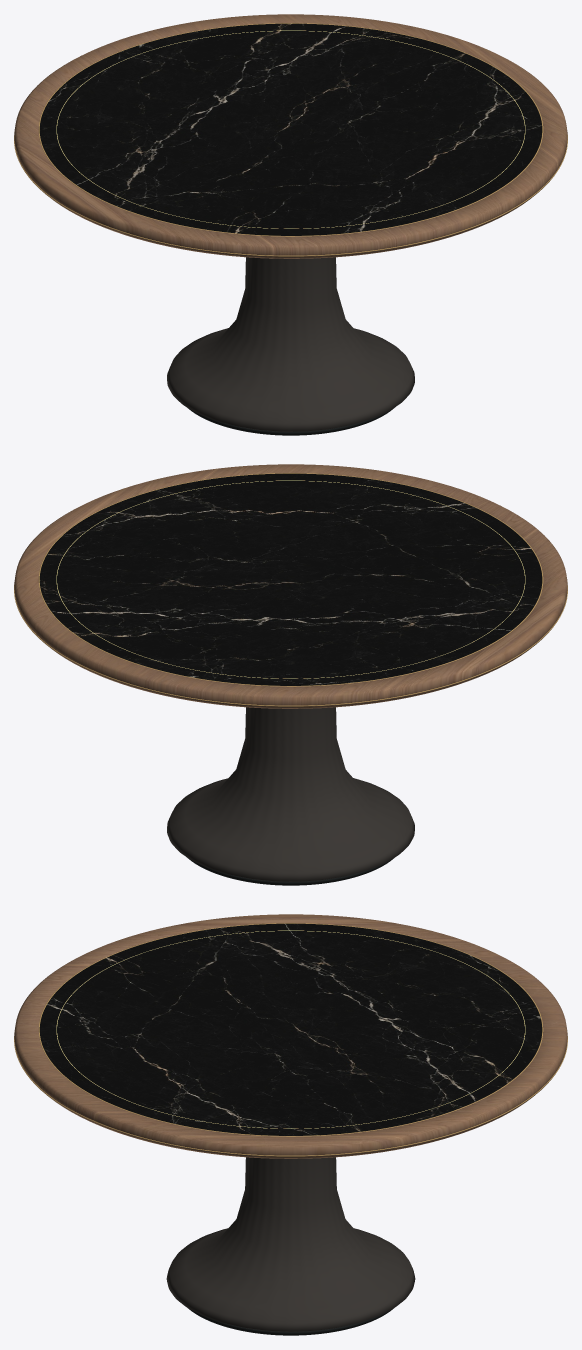
Rendered from table-premium-marble.glb.
3 renders of one model, top to bottom at view 1: azimuth 30°, elevation 25°; view 2: azimuth 150°, elevation 25°; view 3: azimuth 270°, elevation 25°, orthographic.
Parts seen in each view (by area): view 1: Table_Walnut_Surface, Table_Pedestal, Table_Walnut_Rim, Table_Brass_Inlay, Table_Brass_Edge, Table_Glow_EventRing, Table_Foot_Pad; view 2: Table_Walnut_Surface, Table_Pedestal, Table_Walnut_Rim, Table_Brass_Inlay, Table_Brass_Edge, Table_Glow_EventRing, Table_Foot_Pad; view 3: Table_Walnut_Surface, Table_Pedestal, Table_Walnut_Rim, Table_Brass_Inlay, Table_Brass_Edge, Table_Glow_EventRing, Table_Foot_Pad.
Part boxes in pixels (bbox=[...]): Table_Walnut_Surface: bbox=[39, 23, 542, 235]; Table_Pedestal: bbox=[167, 257, 414, 431]; Table_Walnut_Rim: bbox=[14, 14, 567, 258]; Table_Brass_Inlay: bbox=[38, 23, 543, 236]; Table_Brass_Edge: bbox=[14, 132, 567, 256]; Table_Glow_EventRing: bbox=[56, 30, 525, 228]; Table_Foot_Pad: bbox=[188, 408, 393, 435]; Table_Walnut_Surface: bbox=[39, 473, 542, 685]; Table_Pedestal: bbox=[167, 707, 414, 881]; Table_Walnut_Rim: bbox=[14, 464, 567, 708]; Table_Brass_Inlay: bbox=[38, 473, 543, 686]; Table_Brass_Edge: bbox=[14, 582, 567, 706]; Table_Glow_EventRing: bbox=[56, 480, 525, 678]; Table_Foot_Pad: bbox=[188, 858, 393, 885]; Table_Walnut_Surface: bbox=[39, 923, 542, 1135]; Table_Pedestal: bbox=[166, 1157, 415, 1331]; Table_Walnut_Rim: bbox=[14, 914, 567, 1158]; Table_Brass_Inlay: bbox=[38, 923, 543, 1136]; Table_Brass_Edge: bbox=[14, 1032, 567, 1156]; Table_Glow_EventRing: bbox=[56, 930, 525, 1128]; Table_Foot_Pad: bbox=[188, 1308, 393, 1335].
Size of the model in its own units: 1.44 by 0.7393 by 1.44.
6 materials, 2 textured.
